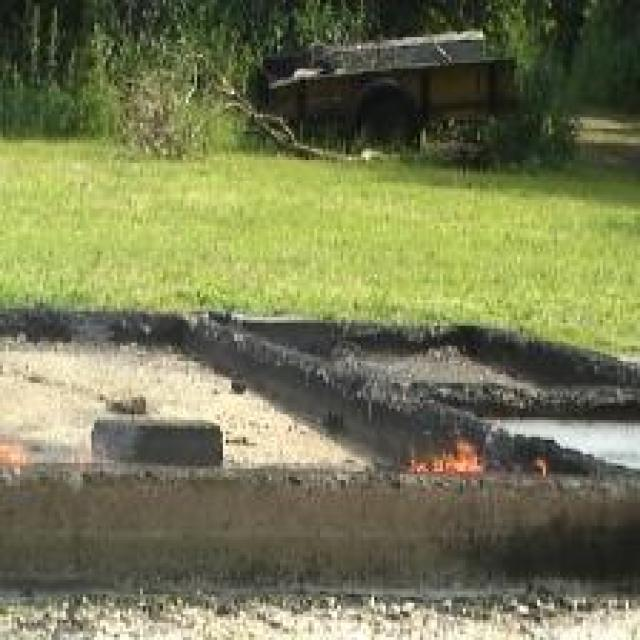fire: (419, 430, 484, 477), (1, 431, 34, 483), (527, 450, 554, 480)
